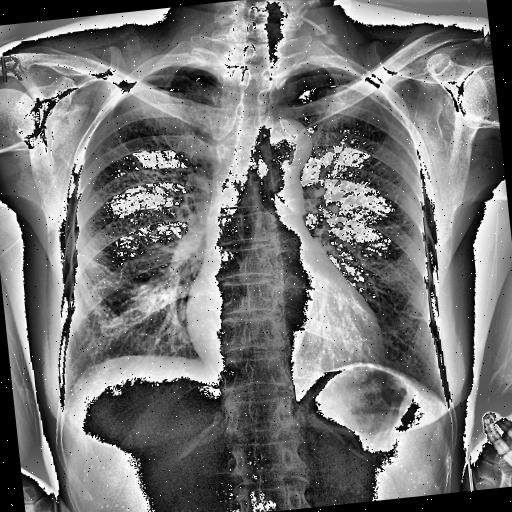0- Aortic enlargement: (266, 117, 316, 171)
13- Pulmonary fibrosis: (74, 246, 116, 282), (74, 249, 116, 281), (406, 310, 430, 326), (409, 309, 427, 324)
3- Cardiomegaly: (184, 268, 385, 400), (182, 276, 385, 386)
